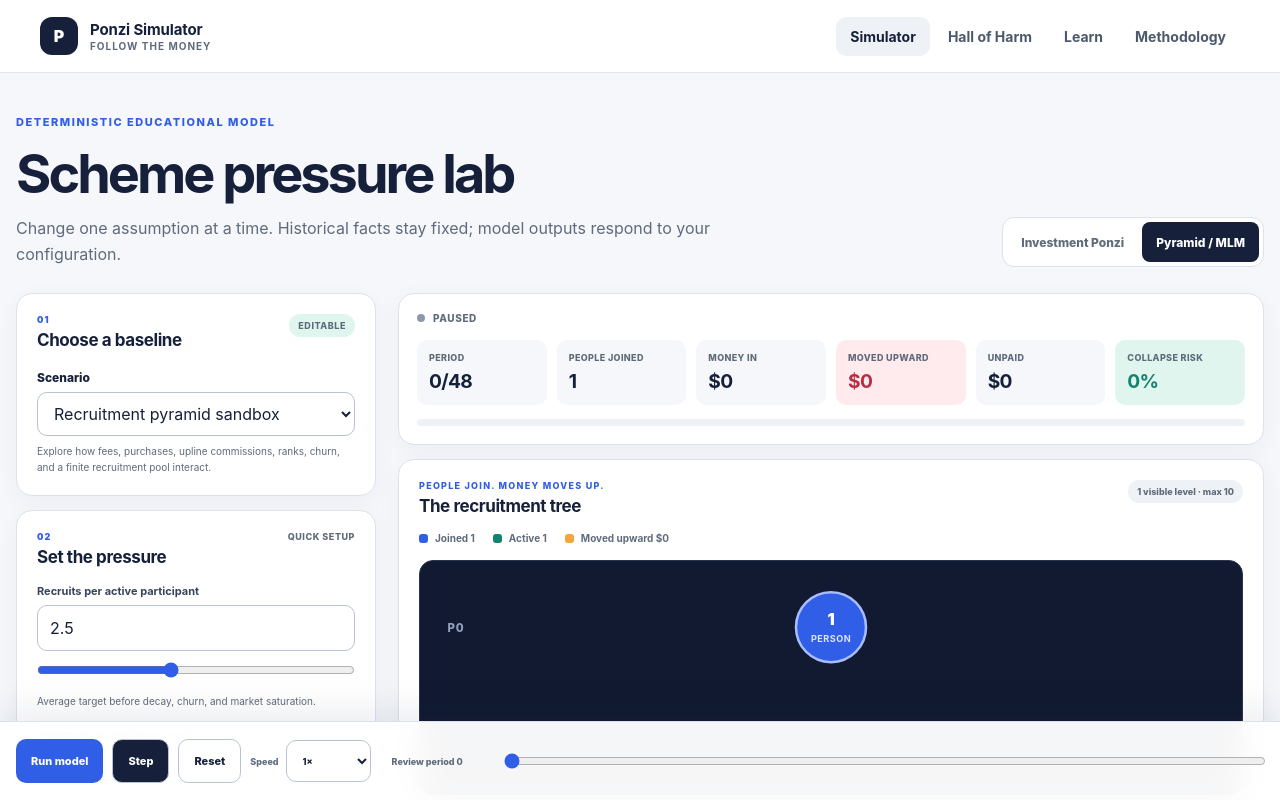
simulator interactions › keeps the quick number and slider controls synchronized and steps the model
This screenshot has width=1280, height=800.
Set the slider named "Recruits per active participant slider" to "3.2". click: (206, 670)
box: 37,658 -> 355,682
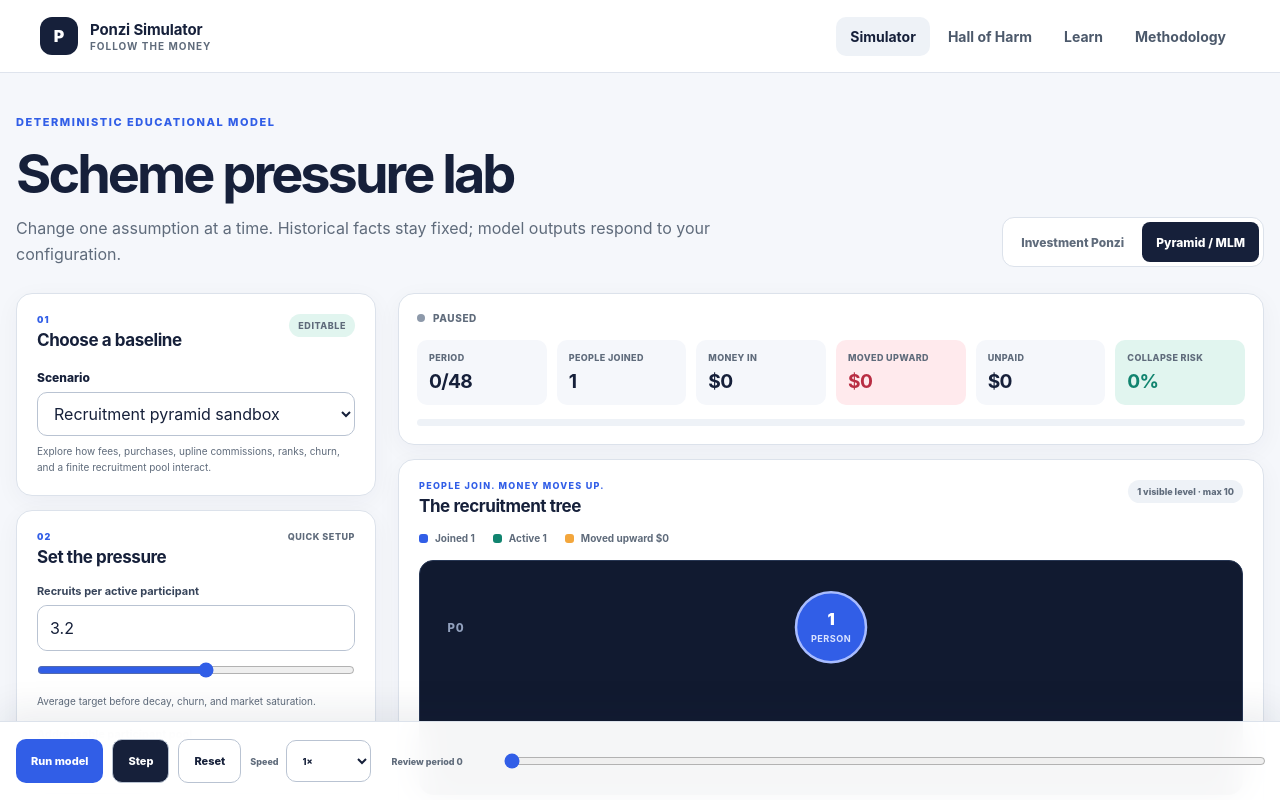
Expected: the number field labelled "Recruits per active participant" holds "3.2", 38,606 -> 354,650
Click the button "Step". click: click(141, 761)
box: 112,739 -> 169,783
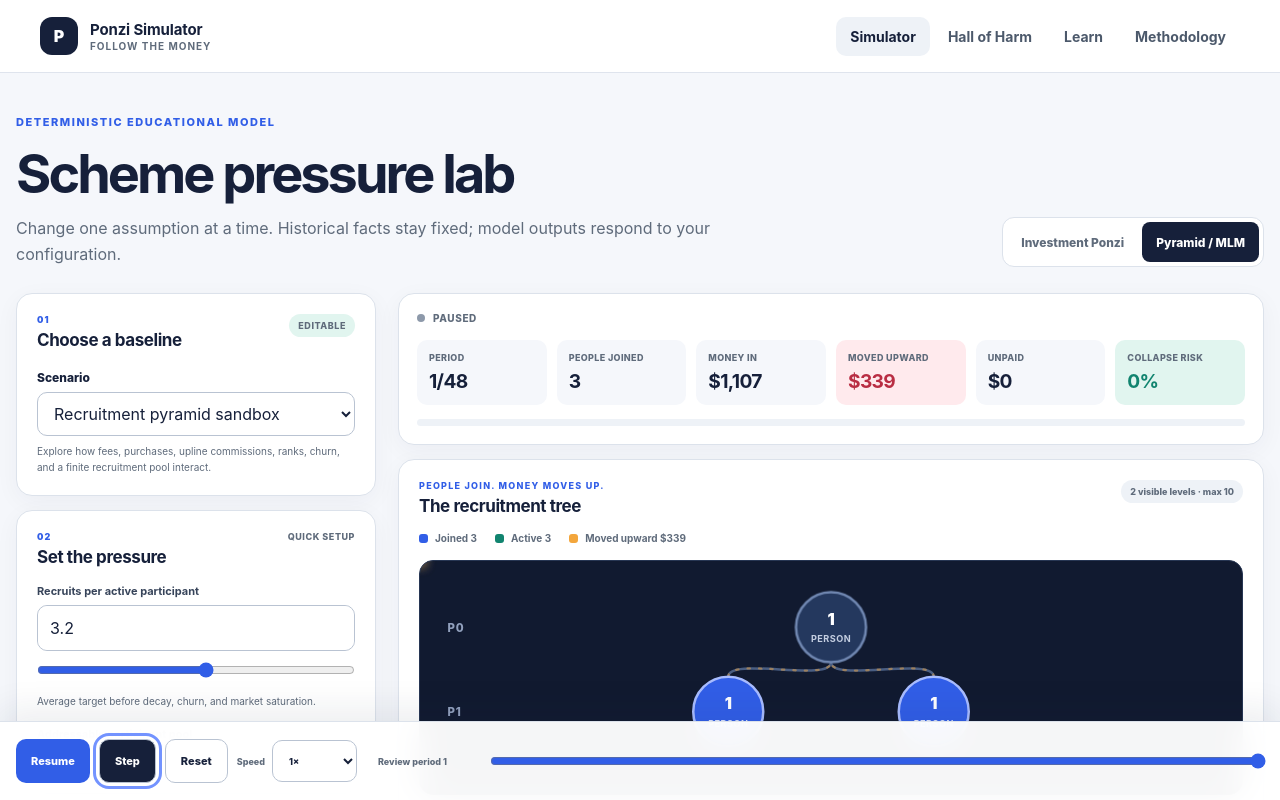
Expected: the heading "The recruitment tree" is shown, 419,496 -> 605,516
Expected: the text "1/48" is shown, 429,369 -> 468,393
